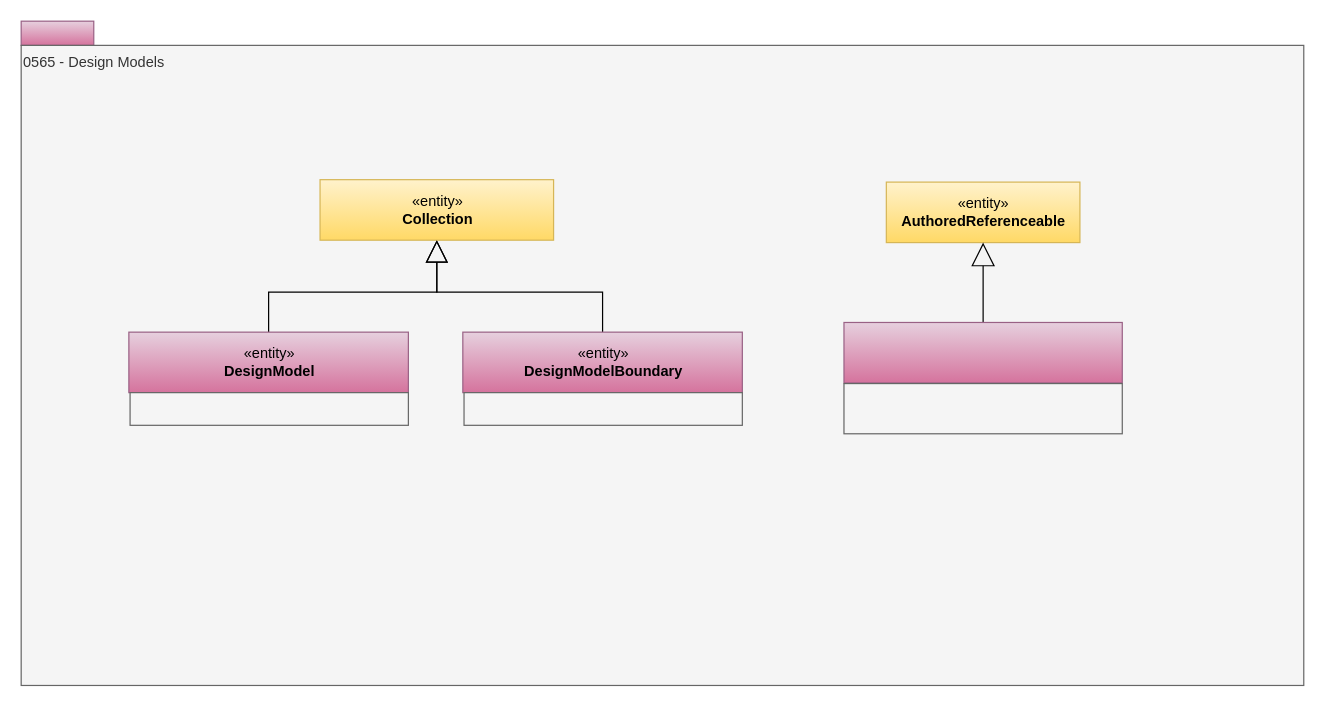
This 1325x707 diagram has some shape labels left out. Here are the shapes that lost their labels. From the top down, the centre of each, then its label:
point 982,352: «entity» DesignModelElement
point 982,408: canonicalName : string
